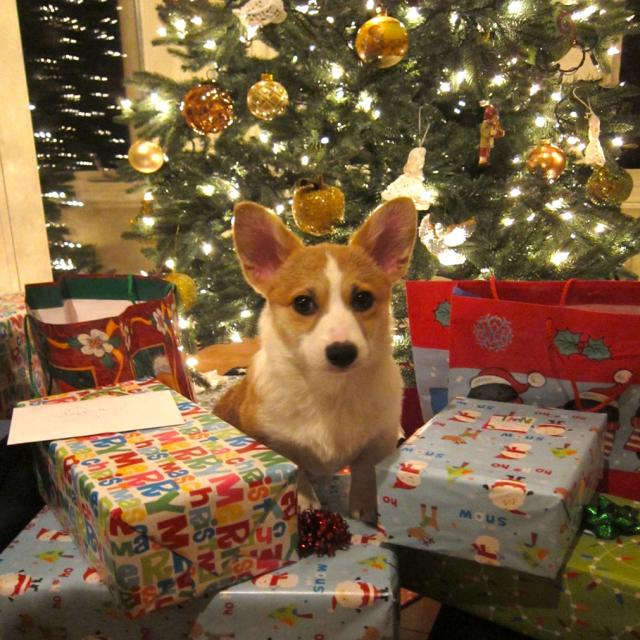Dog: (199, 192, 408, 532)
